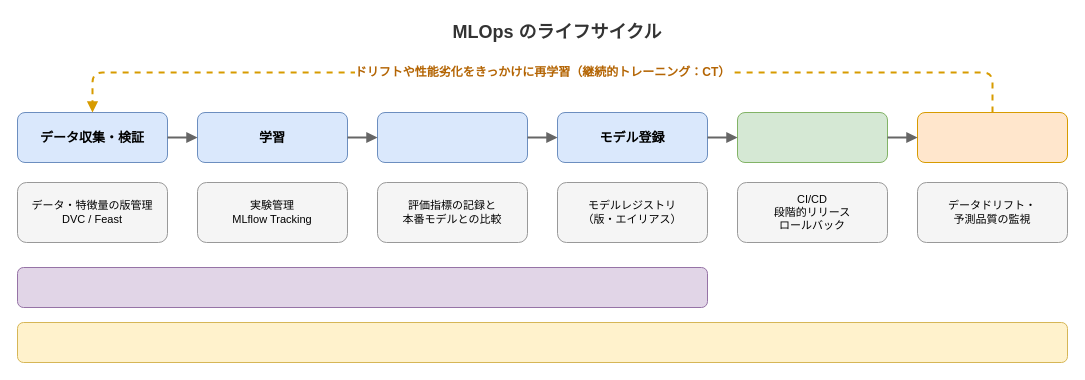
Image size: 1085x380. Some labels were removed from this diagram. Each missing label, with the centre of its shape:
"デプロイ" belongs at point 812,137.
"メタデータ・系譜（どのデータ・コード・パラメータから、どのモデルができたか）" belongs at point 542,342.
"学習パイプラインの自動化（Kubeflow Pipelines / SageMaker Pipelines / Vertex AI Pipelines）" belongs at point 362,287.
"監視" belongs at point 992,137.
"評価・検証" belongs at point 452,137.
